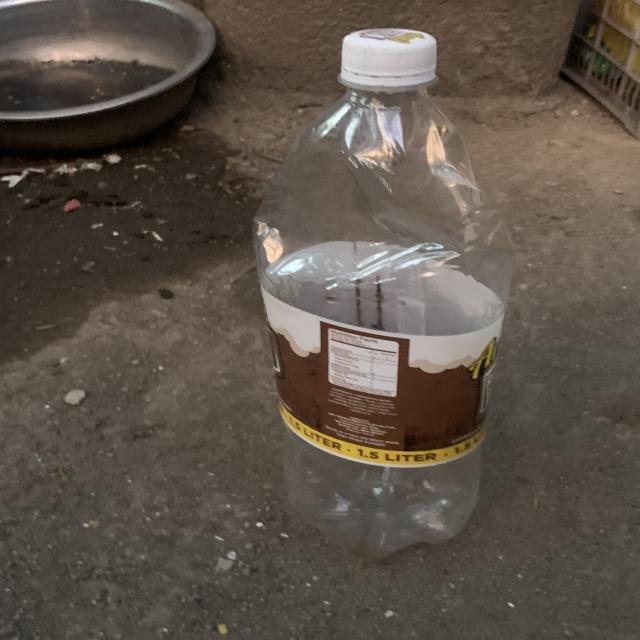Bottle: (253, 28, 516, 562)
